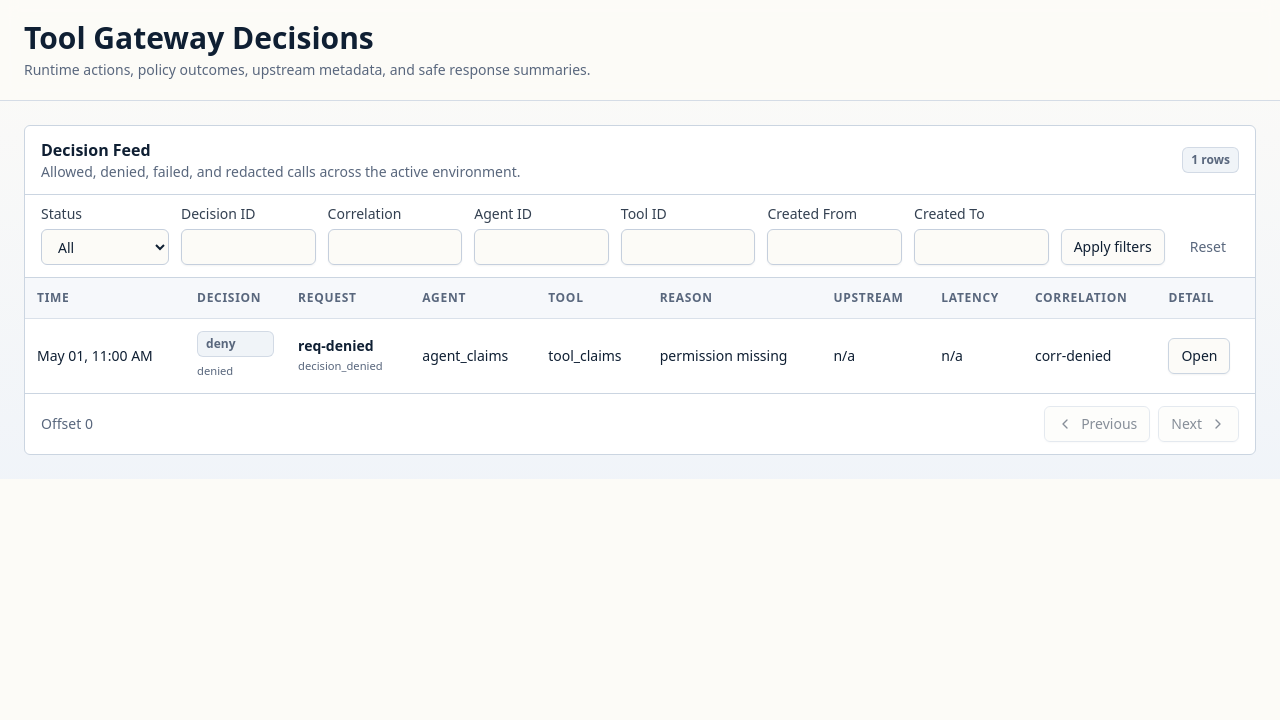
it: ToolDecisionsPage › opens a detail drawer with denied reason code
Click the button "Open".
click(1199, 356)  # box [1168, 338, 1230, 374]
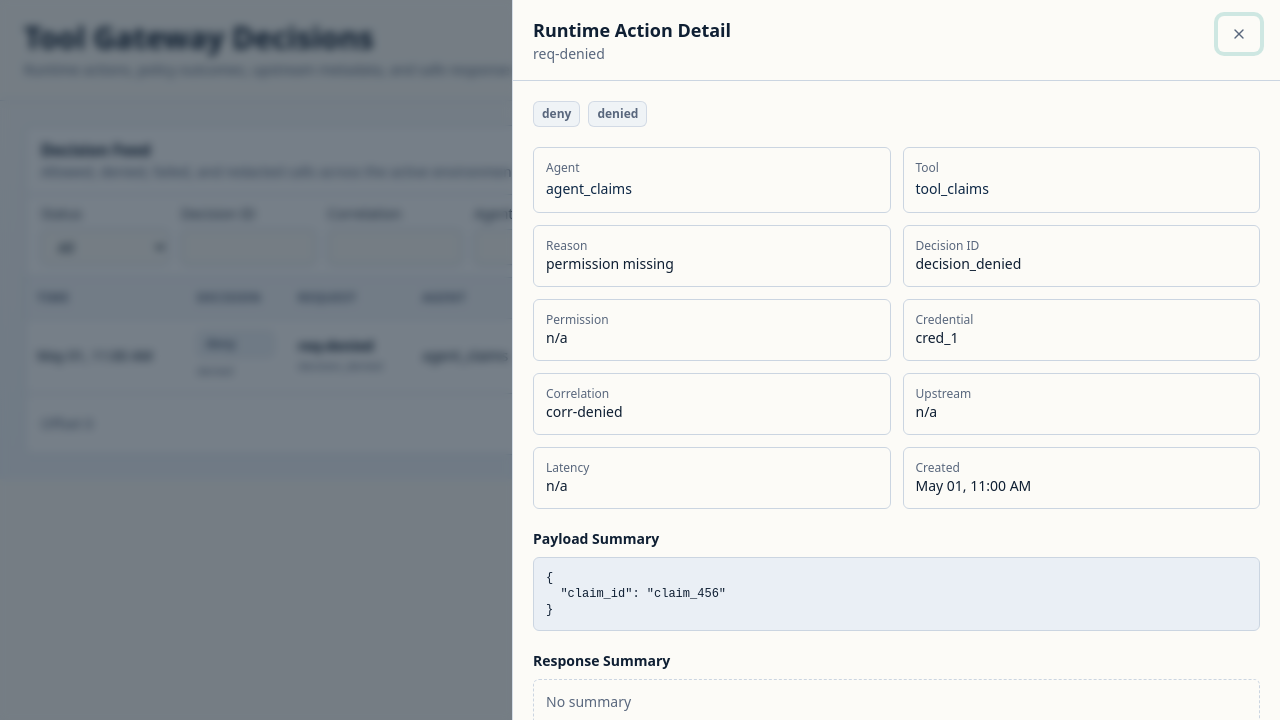
Expected: the text "permission missing" is shown, [546, 254, 674, 273]
Expected: the text "decision_denied" is shown, [916, 254, 1021, 273]
